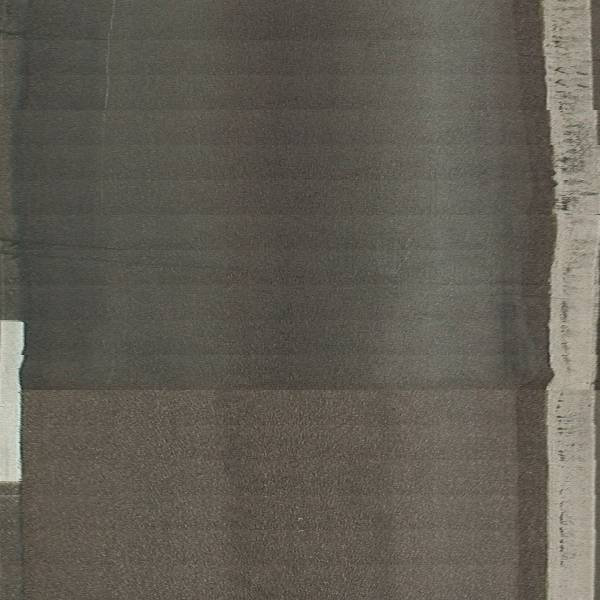road_damage: (37, 370, 512, 406), (8, 232, 180, 257), (7, 18, 128, 52)
